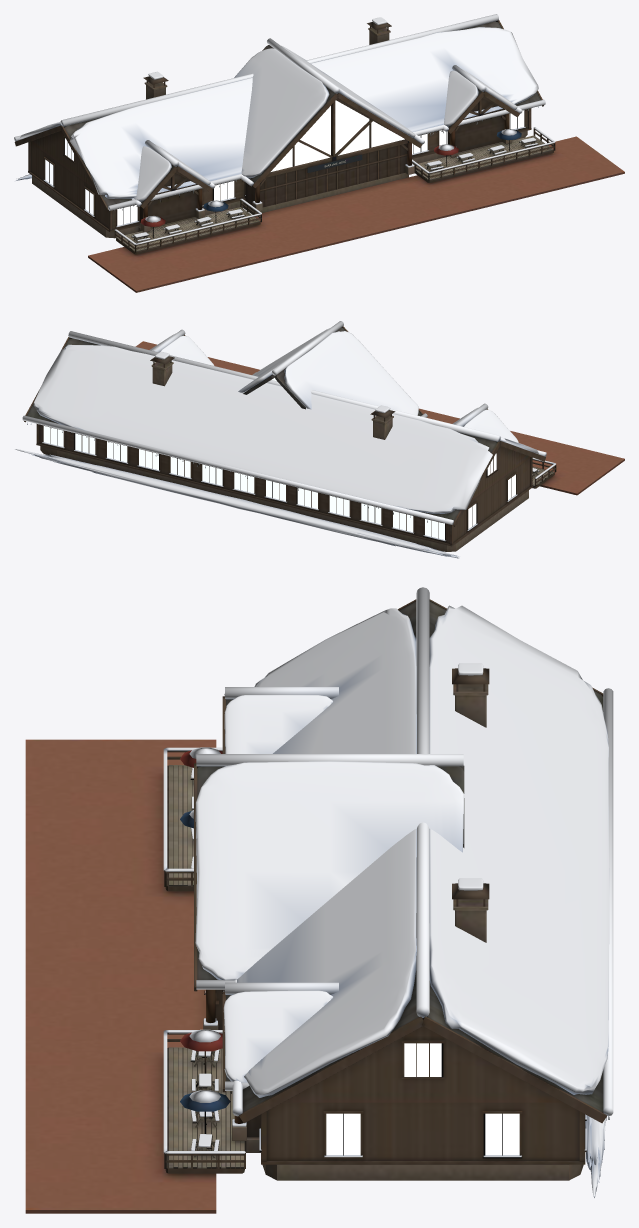
Rendered from silver_lake_lodge.glb.
3 views of the same model, one above another, from view 1: azimuth 30°, elevation 25°; view 2: azimuth 150°, elevation 25°; view 3: azimuth 270°, elevation 25° (orthographic). The views are drawn at different scales.
Parts seen in each view (by area): view 1: silver_lake_lodge, silver_lake_lodge_snow, silver_lake_lodge_lit; view 2: silver_lake_lodge_snow, silver_lake_lodge, silver_lake_lodge_lit; view 3: silver_lake_lodge_snow, silver_lake_lodge, silver_lake_lodge_lit.
Part boxes in pixels (<box>): silver_lake_lodge: <box>14,20,624,292</box>; silver_lake_lodge_snow: <box>14,14,555,244</box>; silver_lake_lodge_lit: <box>45,100,524,225</box>; silver_lake_lodge_snow: <box>15,321,556,558</box>; silver_lake_lodge: <box>24,326,624,551</box>; silver_lake_lodge_lit: <box>43,378,515,539</box>; silver_lake_lodge_snow: <box>163,587,613,1197</box>; silver_lake_lodge: <box>25,599,609,1213</box>; silver_lake_lodge_lit: <box>326,1043,519,1155</box>.
Size of the model in its own units: 70 by 15.84 by 36.97.
4 materials, 1 textured.
